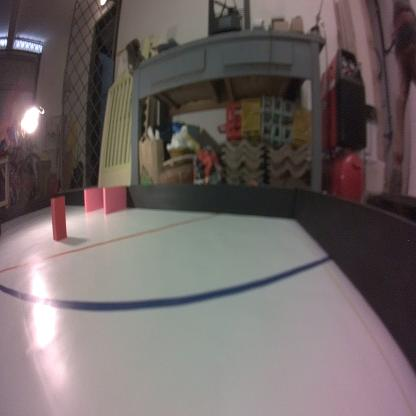magenta: (102, 184, 127, 213), (82, 188, 108, 214)
red: (48, 193, 68, 245)
